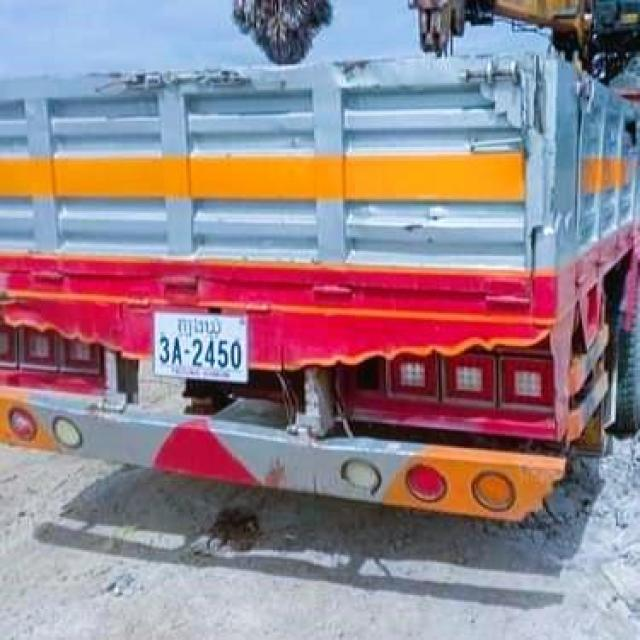Tboung_Khmum: (178, 315, 222, 338)
